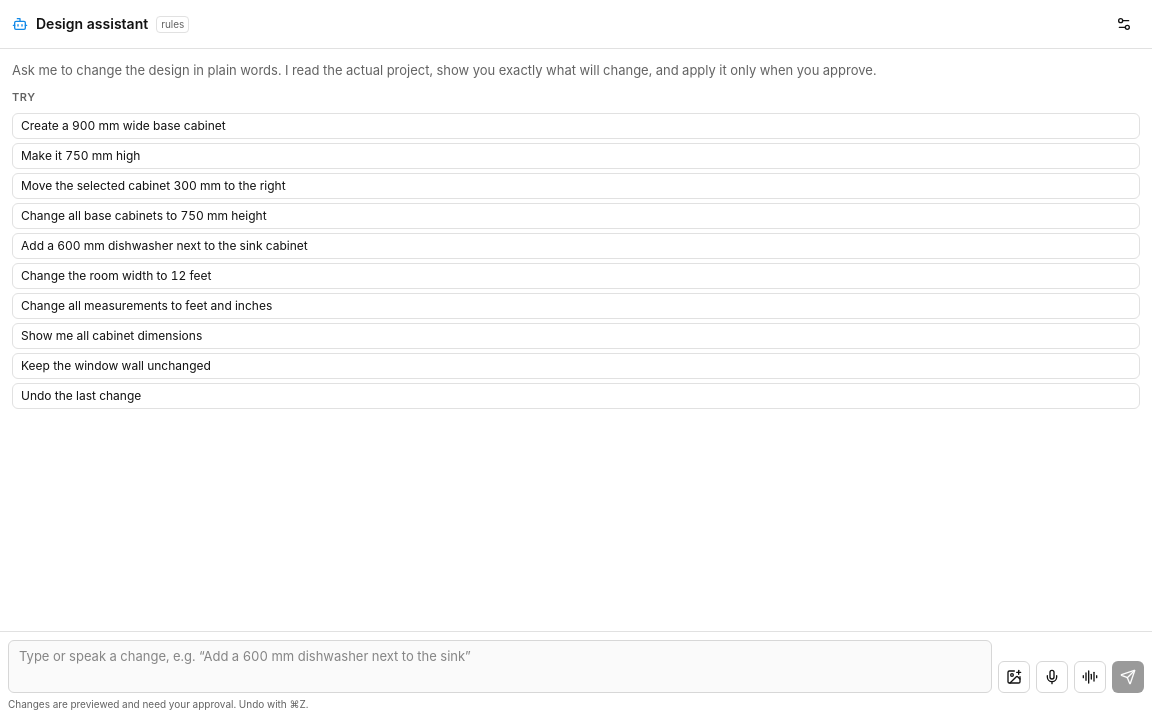
Scenario: voice controls › a spoken request appears as text, enters the normal preview flow once, and Esc cancels listening
Step 1. Click the button named "Speak a request" → [1052, 677], box x1=1036 y1=661 x2=1068 y2=693
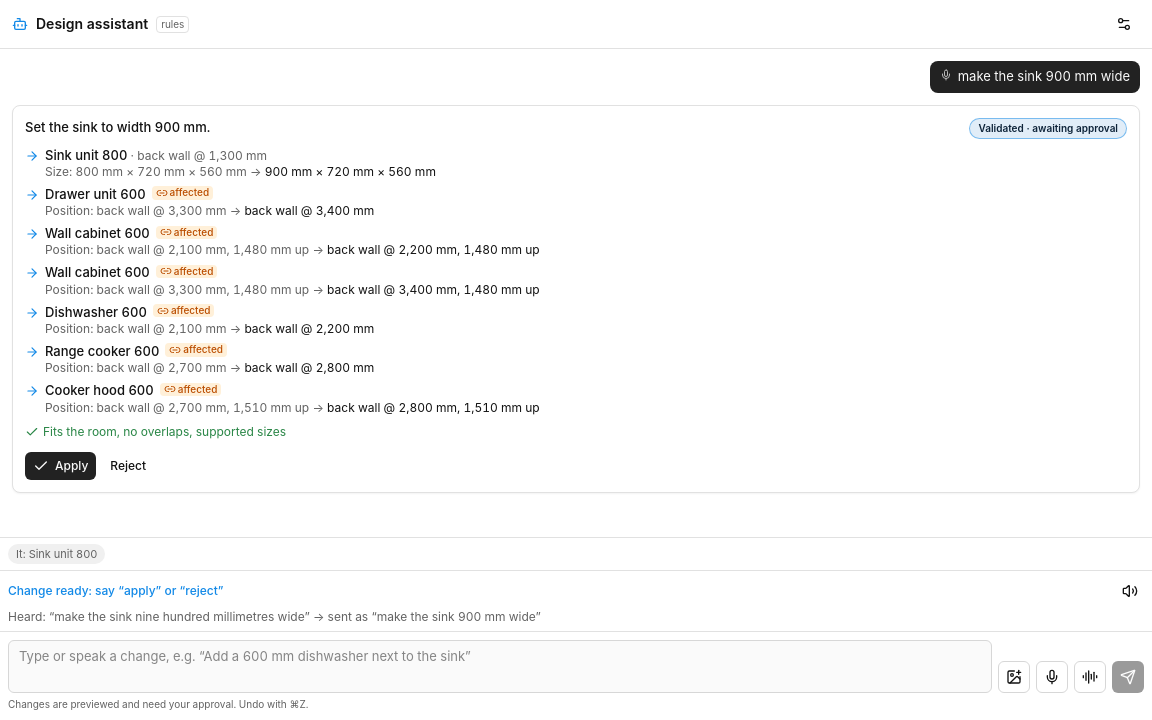
Now the element with test id "change-preview" is shown, box x1=12 y1=104 x2=1140 y2=493
Now the number of elements with test id "user-message" is 1, box x1=930 y1=61 x2=1140 y2=92
Now the element with test id "user-message" reads "make the sink 900 mm wide", box x1=958 y1=68 x2=1130 y2=84
Step 2. Click the button named "Speak a request" → [1052, 677], box x1=1036 y1=661 x2=1068 y2=693
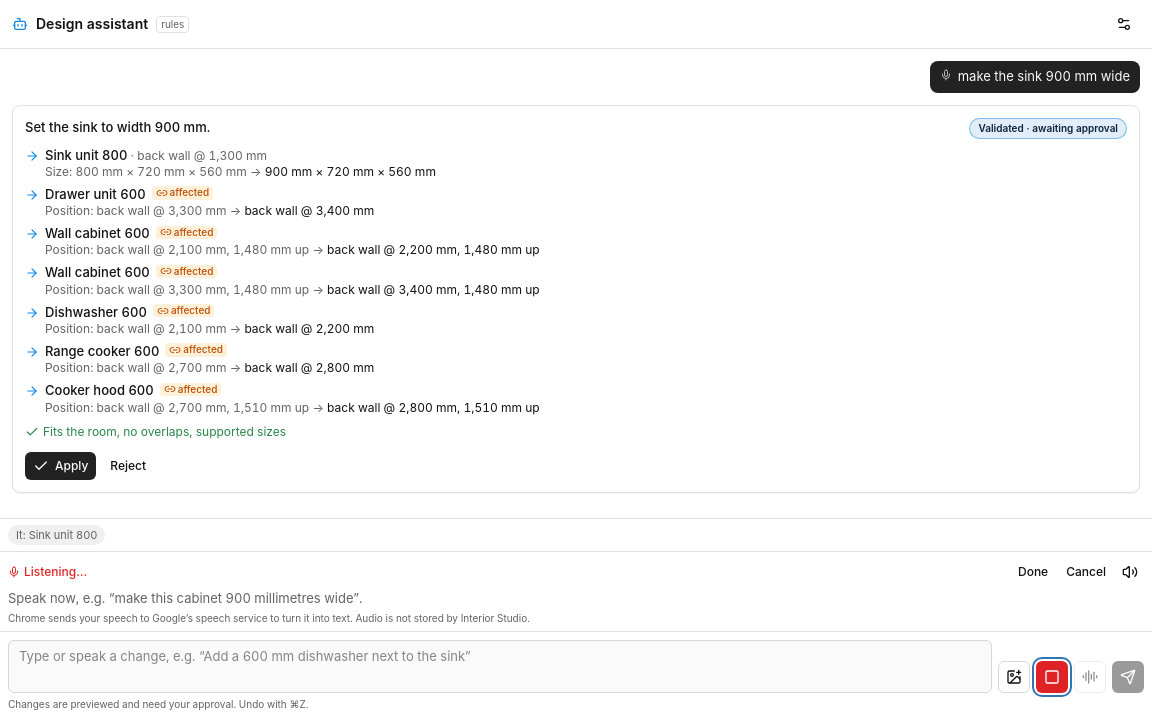
Step 3. Press Escape
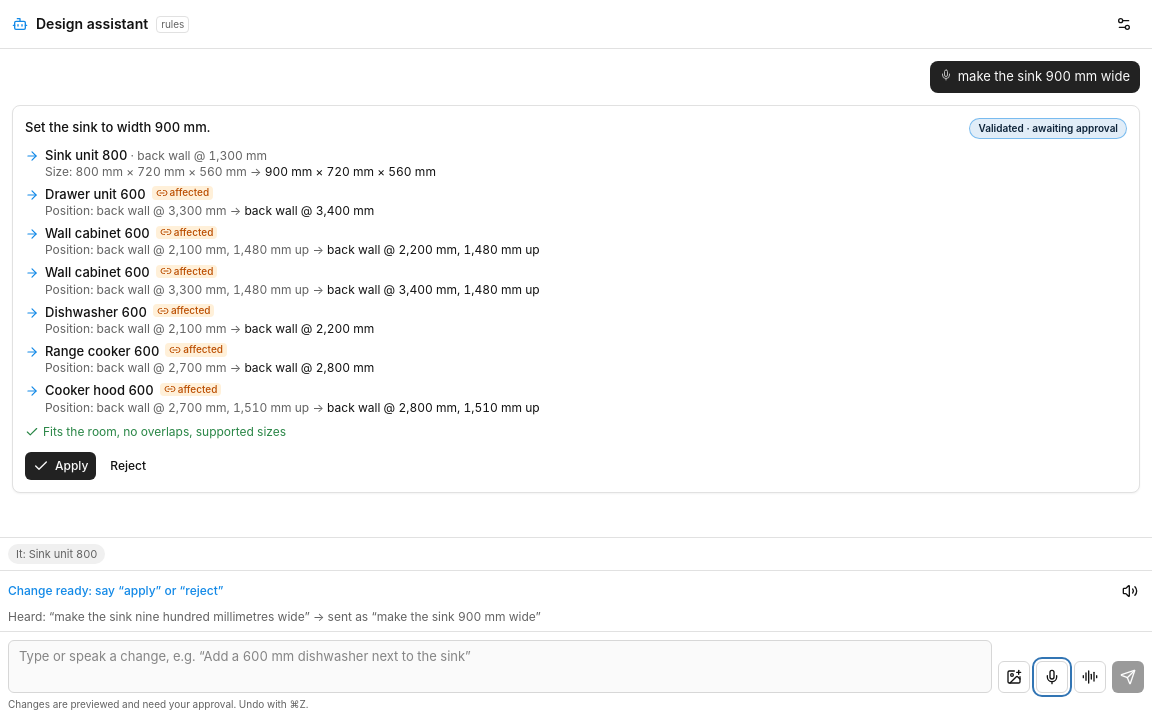
Now the message with test id "voice-status" no longer shows "Listening", box x1=8 y1=583 x2=224 y2=599
